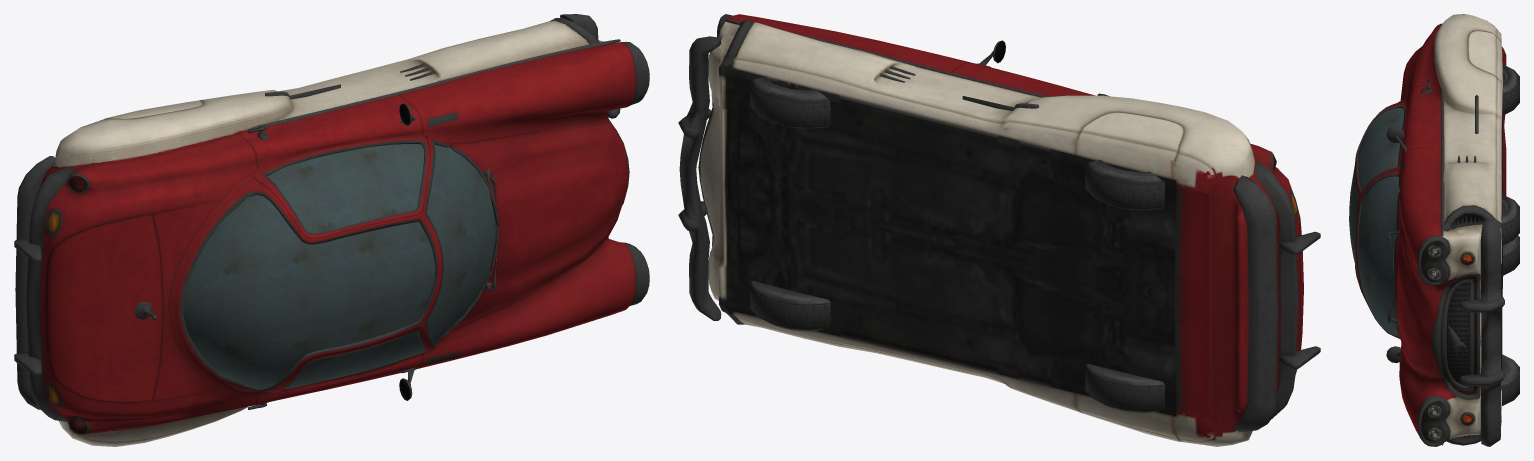
File: veh_t6_nuketown_2020_car02_clean_LOD0.obj
3 views of the same model, side by side, from view 1: azimuth 30°, elevation 25°; view 2: azimuth 150°, elevation 25°; view 3: azimuth 270°, elevation 25° (orthographic). The views are drawn at different scales.
Visible parts, largest first — view 1: mtl_nt_2020_car_02_exterior, mtl_nt_2020_car_01_glass_out, mtl_nt_2020_car_01_glass_in; view 2: mtl_nt_2020_car_02_exterior; view 3: mtl_nt_2020_car_02_exterior, mtl_nt_2020_car_01_glass_out, mtl_nt_2020_car_01_glass_in.
Boxes of the visible parts, bbox=[...] form: mtl_nt_2020_car_02_exterior: bbox=[14, 14, 649, 446]; mtl_nt_2020_car_01_glass_out: bbox=[183, 144, 495, 389]; mtl_nt_2020_car_01_glass_in: bbox=[184, 144, 495, 388]; mtl_nt_2020_car_02_exterior: bbox=[678, 14, 1320, 446]; mtl_nt_2020_car_02_exterior: bbox=[1355, 14, 1519, 446]; mtl_nt_2020_car_01_glass_out: bbox=[1349, 108, 1404, 335]; mtl_nt_2020_car_01_glass_in: bbox=[1349, 108, 1403, 328].
Bounding box in the file's own units: 504 × 247 × 154.
